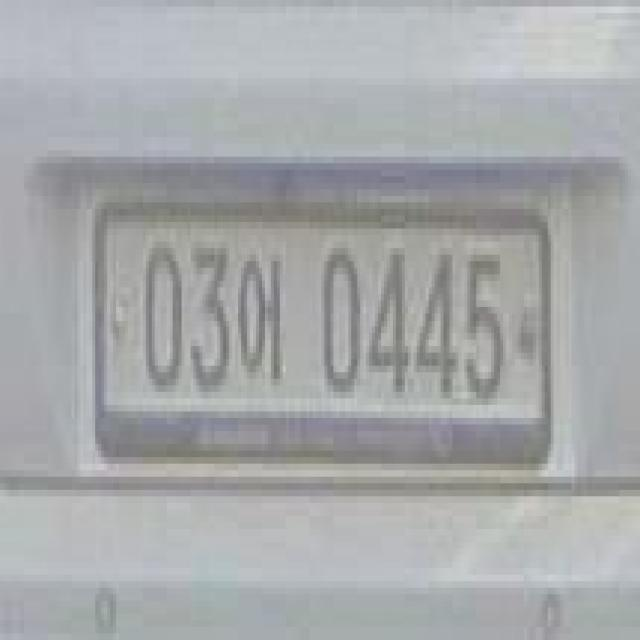illegal_plate: (89, 189, 556, 483)
